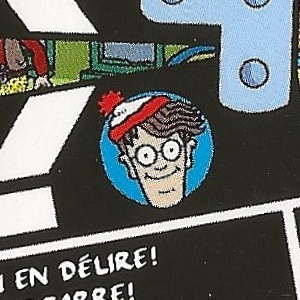Charlie: (93, 91, 207, 209)
